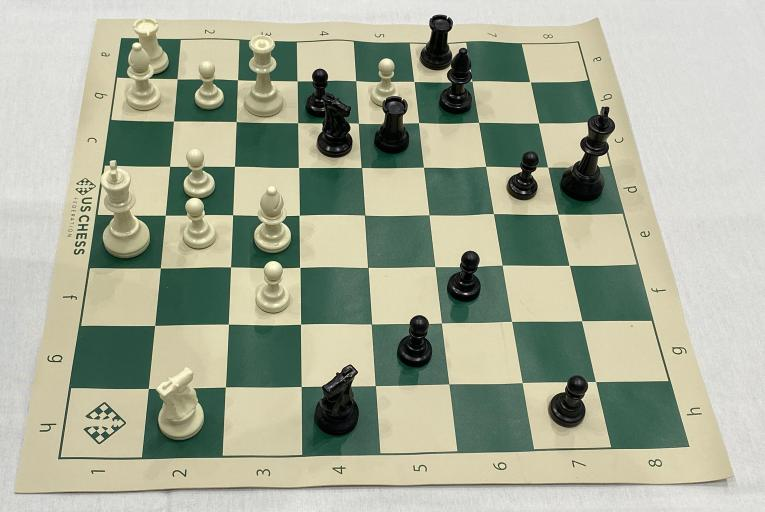black-bishop: (435, 45, 477, 119)
black-king: (559, 102, 620, 206)
black-knight: (312, 358, 368, 443), (315, 94, 359, 162)
black-pawn: (392, 310, 438, 374), (545, 372, 591, 432), (445, 248, 485, 308), (303, 67, 343, 121), (507, 148, 545, 203)
black-rook: (372, 94, 421, 157), (417, 14, 462, 75)
white-bishop: (250, 183, 296, 257), (120, 41, 164, 114)
white-king: (91, 157, 156, 263)
white-knight: (151, 364, 213, 447)
white-pawn: (251, 257, 298, 319), (173, 196, 220, 253), (188, 57, 232, 116), (367, 54, 408, 111), (178, 145, 218, 201)
white-queen: (237, 31, 289, 124)
white-rook: (127, 10, 176, 78)
